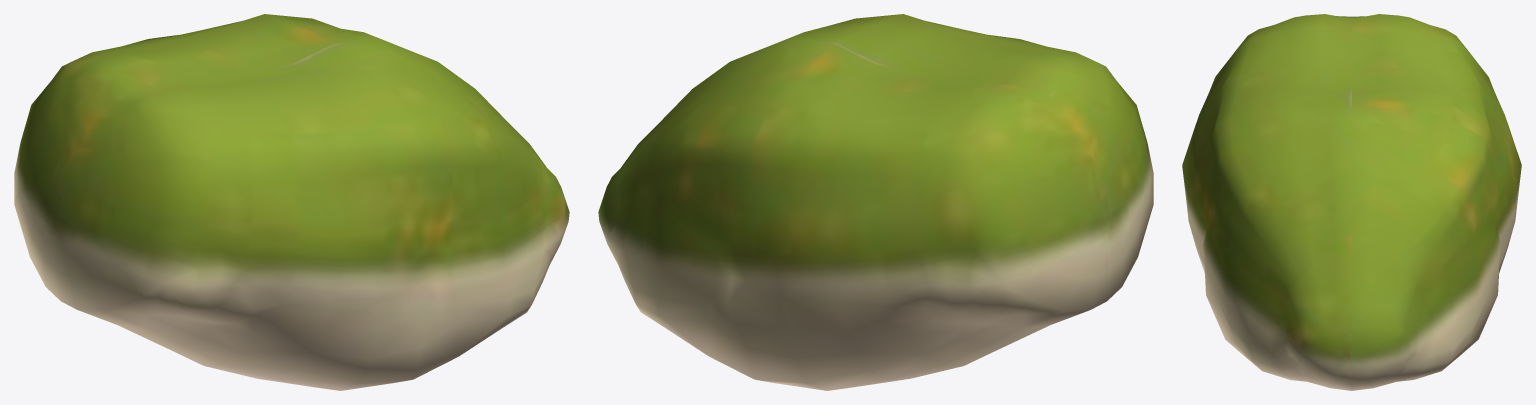
The model's file is Frog_Body_0.FBX.
3 views of the same model, side by side, from view 1: azimuth 30°, elevation 25°; view 2: azimuth 150°, elevation 25°; view 3: azimuth 270°, elevation 25° (orthographic). The views are drawn at different scales.
Visible parts, largest first — view 1: Frog_Body_0; view 2: Frog_Body_0; view 3: Frog_Body_0.
Boxes of the visible parts, x1,y1,x2,y2 form: Frog_Body_0: [14, 14, 569, 390]; Frog_Body_0: [598, 14, 1153, 390]; Frog_Body_0: [1182, 14, 1521, 390].
Size of the model in its own units: 2.27 by 1.43 by 1.64.
